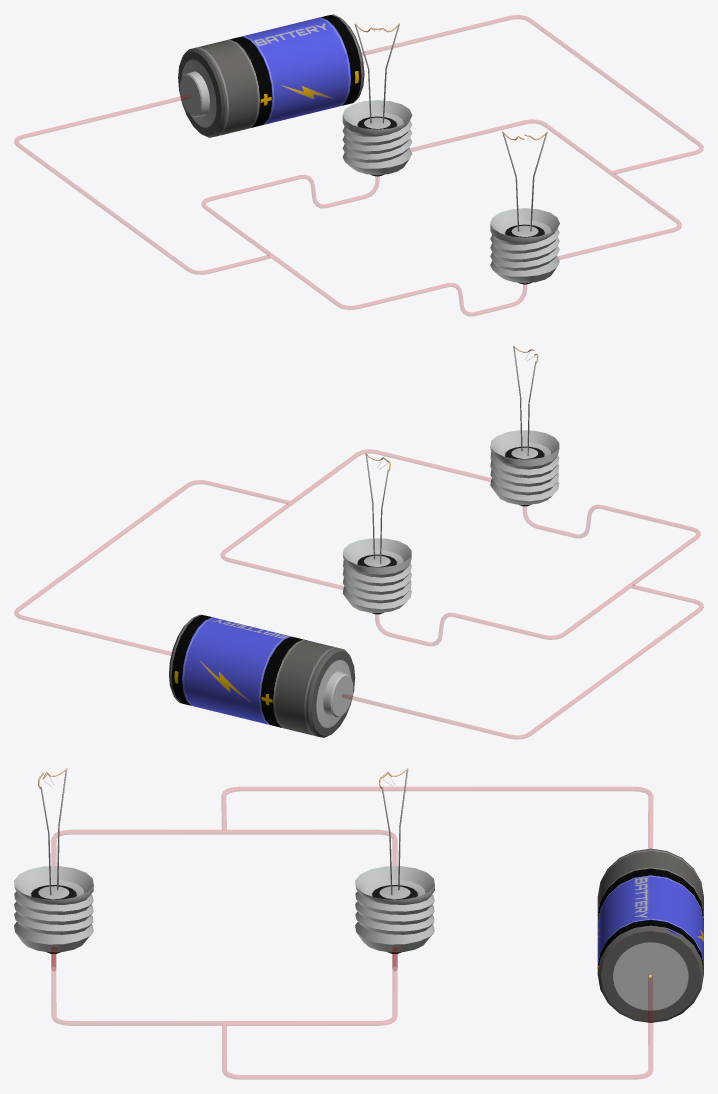
The model's file is circuits.glb.
The picture shows the model from 3 angles, top to bottom: view 1: azimuth 30°, elevation 25°; view 2: azimuth 150°, elevation 25°; view 3: azimuth 270°, elevation 25°; orthographic projection. The views are drawn at different scales.
Parts seen in each view (by area): view 1: battery, wire, workingPatron, brokenPatron; view 2: battery, wire, workingPatron, brokenPatron; view 3: battery, wire, brokenPatron, workingPatron, workingMetal, brokenMetal.
Part boxes in pixels (x1,y1,x2,y2): battery: (178, 14, 364, 137); wire: (14, 15, 703, 316); workingPatron: (342, 100, 412, 176); brokenPatron: (490, 208, 559, 284); battery: (169, 614, 355, 737); wire: (14, 449, 703, 739); workingPatron: (342, 538, 411, 614); brokenPatron: (490, 430, 559, 506); battery: (597, 848, 703, 1022); wire: (51, 787, 652, 1079); brokenPatron: (14, 866, 93, 954); workingPatron: (355, 866, 434, 954); workingMetal: (381, 768, 408, 895); brokenMetal: (40, 768, 67, 895).
Size of what is drawn, in the model's own units: 8.06 by 2.67 by 8.09.
Materials: 6 (2 with a texture image).
